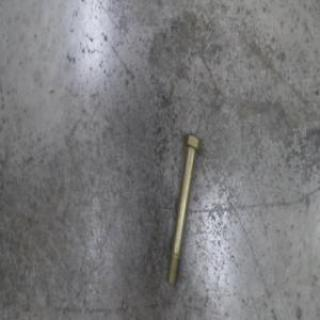Bolttrack_idkeyframe: (165, 131, 201, 286)
